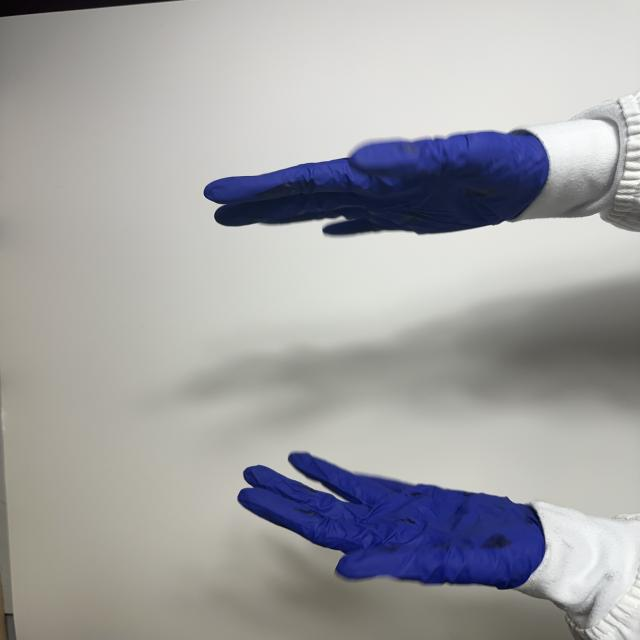gloves_contaminated: (238, 454, 546, 588), (205, 132, 548, 235)
